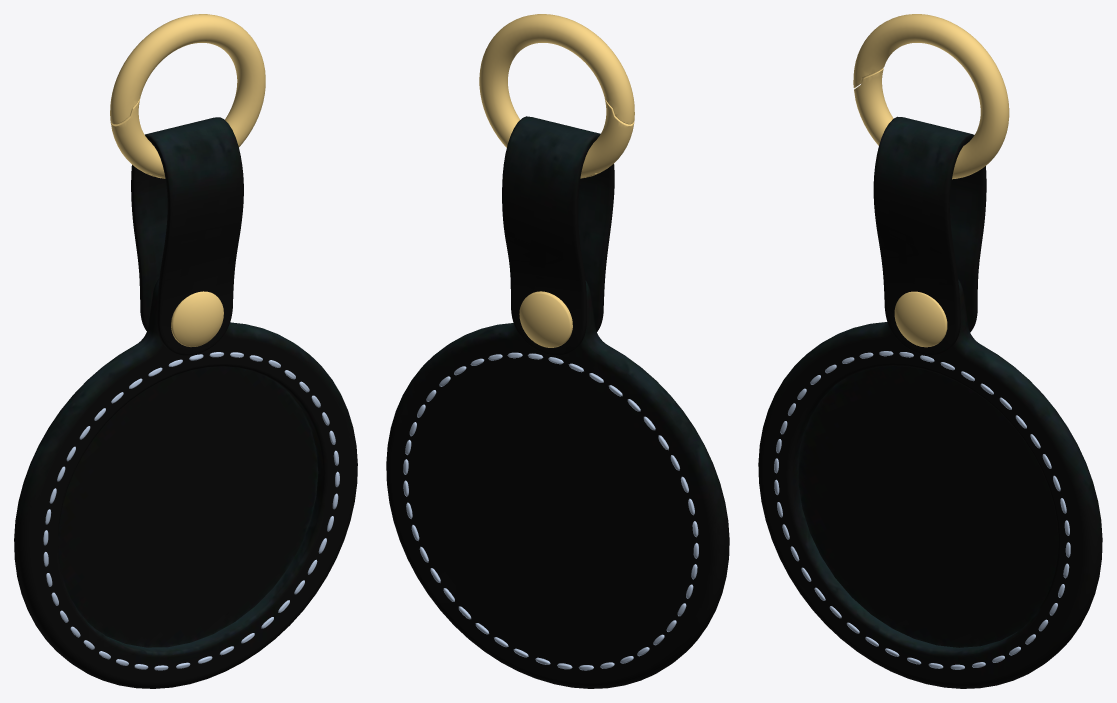
Rendered from leather-case-variants-v2-202605090810.glb.
The picture shows the model from 3 angles, left to right: view 1: azimuth 30°, elevation 25°; view 2: azimuth 150°, elevation 25°; view 3: azimuth 330°, elevation 25°; orthographic projection.
Parts seen in each view (by area): view 1: Obsidian Black; view 2: Obsidian Black; view 3: Obsidian Black.
Boxes of the visible parts, x1,y1,x2,y2 form: Obsidian Black: (14,14,357,688); Obsidian Black: (386,14,729,688); Obsidian Black: (758,14,1102,688).
Bounding box in the file's own units: 0.6026 × 1.13 × 0.1234.
Materials: 3 (1 with a texture image).
